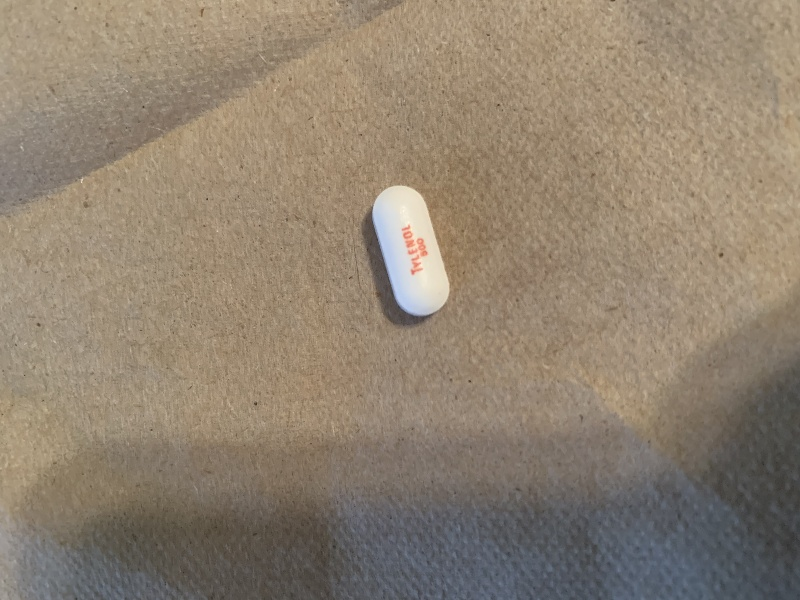Tylenol: (349, 186, 465, 324)
